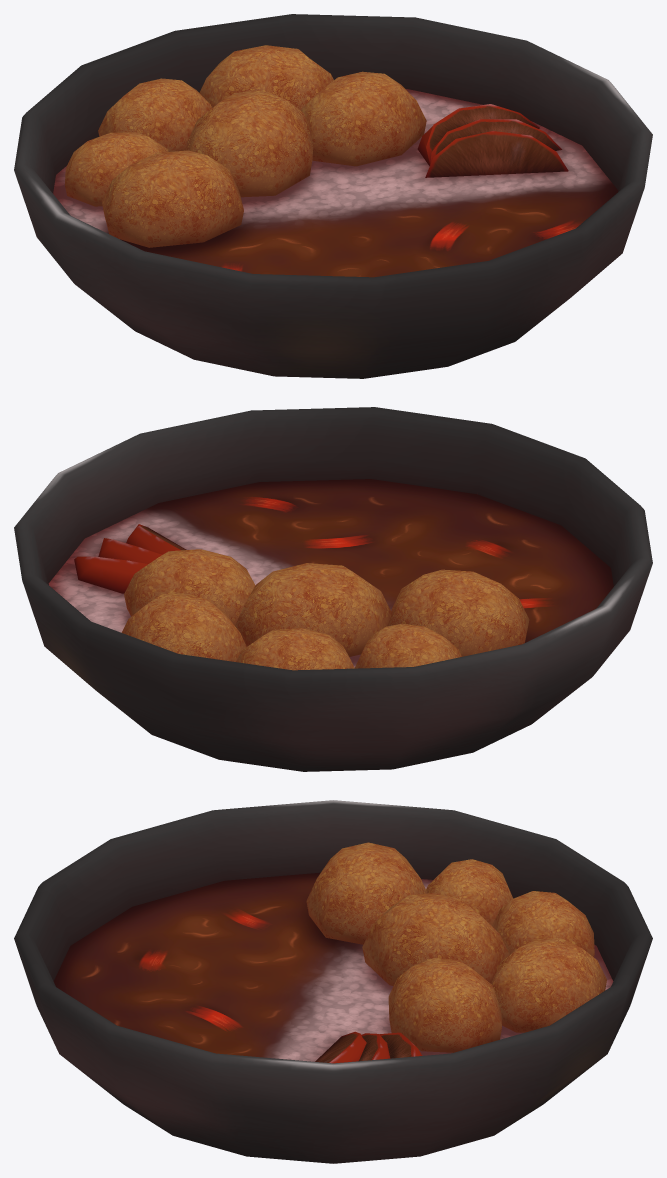
3 renders of one model, top to bottom at view 1: azimuth 30°, elevation 25°; view 2: azimuth 150°, elevation 25°; view 3: azimuth 270°, elevation 25°, orthographic.
Parts seen in each view (by area): view 1: Bow.1.Low; view 2: Bow.1.Low; view 3: Bow.1.Low.
Part boxes in pixels (<box>): Bow.1.Low: <box>14,14,652,378</box>; Bow.1.Low: <box>14,407,652,771</box>; Bow.1.Low: <box>14,800,652,1163</box>.
Bounding box in the file's own units: 1.99 × 0.6616 × 1.99.
1 material, 1 textured.
